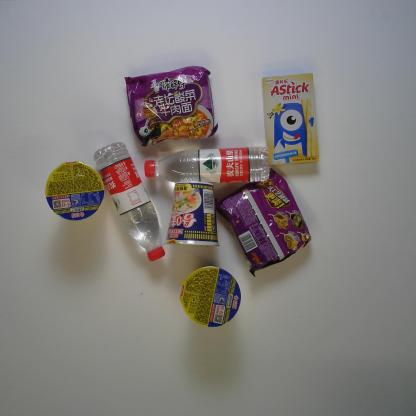Dessert: (259, 72, 322, 167)
Drink: (94, 141, 168, 265), (143, 146, 272, 186)
Instant Noodles: (214, 166, 314, 280), (123, 63, 221, 148), (179, 264, 242, 329), (44, 158, 106, 223), (162, 182, 221, 248)
